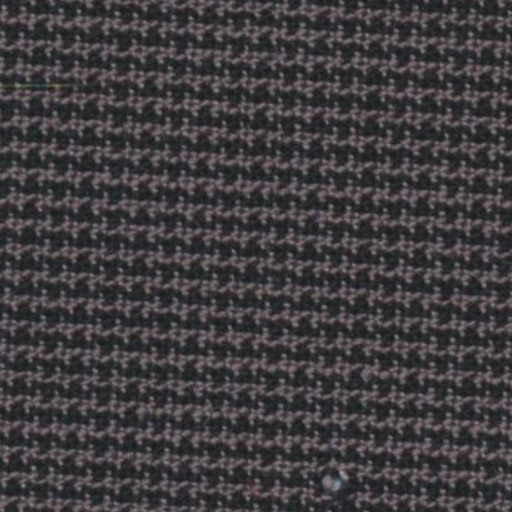PoDong: (292, 440, 383, 508)
